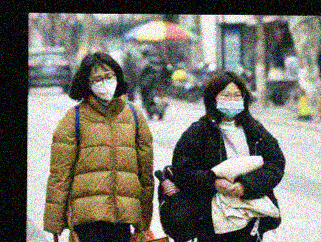with_mask: (215, 88, 246, 121), (88, 69, 118, 101)
